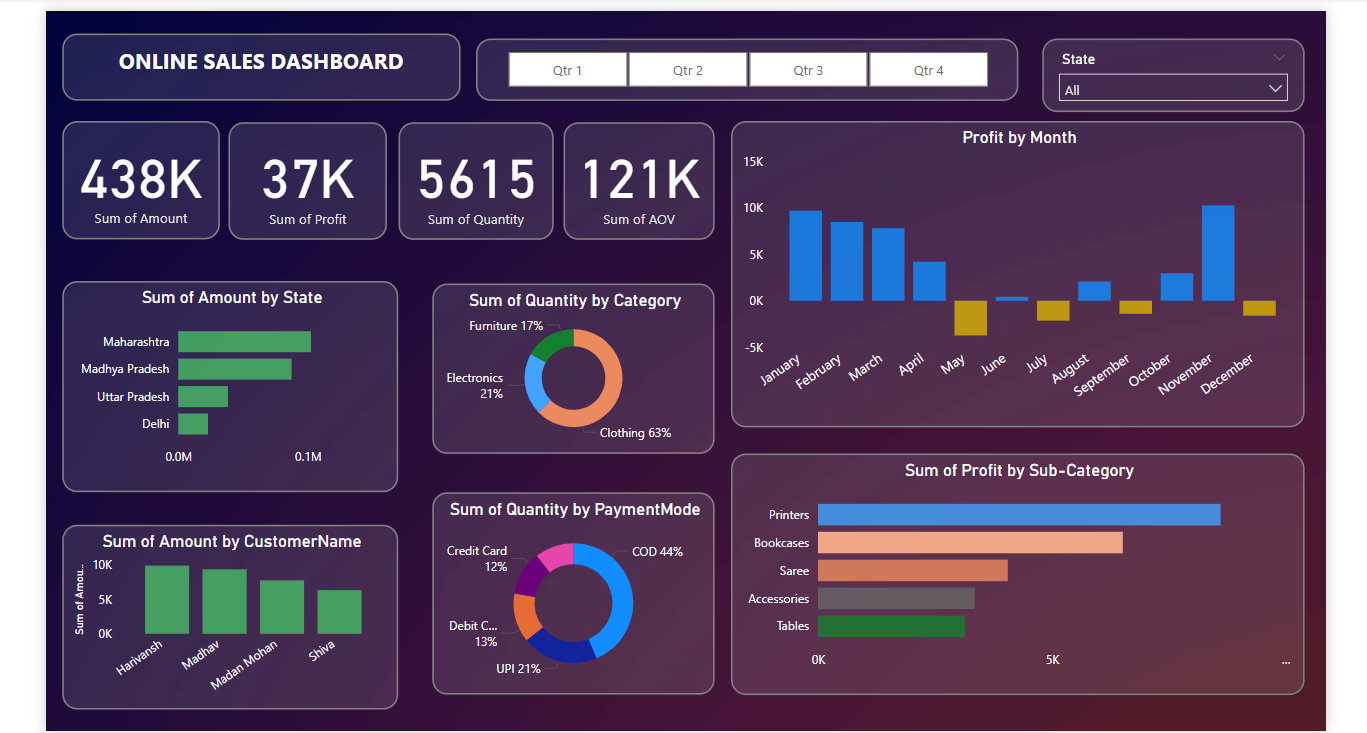

Layout of this report page (visuals, bound fields, positions):
{"tool":"powerbi","page":{"name":"Page 1","canvas":[1280,720],"ordinal":0},"visuals":[{"type":"textbox","box":[16,23,398.6,67.1],"z":0},{"type":"columnChart","title":"Profit by Month","fields":{"Y":["Details.Profit"],"Category":["Orders.Order Date.Variation.Date Hierarchy.Month"]},"box":[684.7,110.5,573.8,306.2],"z":1000},{"type":"barChart","title":"Sum of Profit by Sub-Category","fields":{"Category":["Details.Sub-Category"],"Y":["Details.Profit"]},"box":[684.7,443,573.8,241.2],"z":2000},{"type":"donutChart","fields":{"Y":["Details.Quantity"],"Category":["Details.PaymentMode"]},"box":[386,481.7,282.5,202.5],"z":3000},{"type":"donutChart","fields":{"Category":["Details.Category"],"Y":["Details.Quantity"]},"box":[386,273,282.5,170],"z":4000},{"type":"card","fields":{"Values":["Details.Amount"]},"box":[16,110.5,157.5,118.8],"z":5000},{"type":"card","fields":{"Values":["Details.Profit"]},"box":[182.2,111.7,158.8,117.5],"z":6000},{"type":"card","fields":{"Values":["Details.Quantity"]},"box":[352.2,111.7,155,117.5],"z":7000},{"type":"card","fields":{"Values":["Details.AOV"]},"box":[517.2,111.7,151.2,117.5],"z":8000},{"type":"barChart","title":"Sum of Amount by State","fields":{"Y":["Details.Amount"],"Category":["Orders.State"]},"box":[16,270.5,336.2,211.2],"z":9000},{"type":"columnChart","fields":{"Category":["Orders.CustomerName"],"Y":["Details.Amount"]},"box":[16,514.2,336.2,185],"z":10000},{"type":"slicer","fields":{"Values":["Orders.Order Date.Variation.Date Hierarchy.Quarter"]},"box":[429.7,28,542.5,62.5],"z":11000},{"type":"slicer","fields":{"Values":["Orders.State"]},"box":[996,28,262.5,73.8],"z":12000}]}

Visuals, with their boxes on the page's 1280x720 design canvas (x1, y1, x2, y2). These are canvas units, not pixel positions in the 1367x733 screenshot, which may show the page scaled, cropped or inside an application window:
textbox: x1=16 y1=23 x2=415 y2=90
"Profit by Month" columnChart: x1=685 y1=110 x2=1258 y2=417
"Sum of Profit by Sub-Category" barChart: x1=685 y1=443 x2=1258 y2=684
donutChart - Details.Quantity x Details.PaymentMode: x1=386 y1=482 x2=668 y2=684
donutChart - Details.Category x Details.Quantity: x1=386 y1=273 x2=668 y2=443
card - Details.Amount: x1=16 y1=110 x2=174 y2=229
card - Details.Profit: x1=182 y1=112 x2=341 y2=229
card - Details.Quantity: x1=352 y1=112 x2=507 y2=229
card - Details.AOV: x1=517 y1=112 x2=668 y2=229
"Sum of Amount by State" barChart: x1=16 y1=270 x2=352 y2=482
columnChart - Orders.CustomerName x Details.Amount: x1=16 y1=514 x2=352 y2=699
slicer - Orders.Order Date.Variation.Date Hierarchy.Quarter: x1=430 y1=28 x2=972 y2=90
slicer - Orders.State: x1=996 y1=28 x2=1258 y2=102
